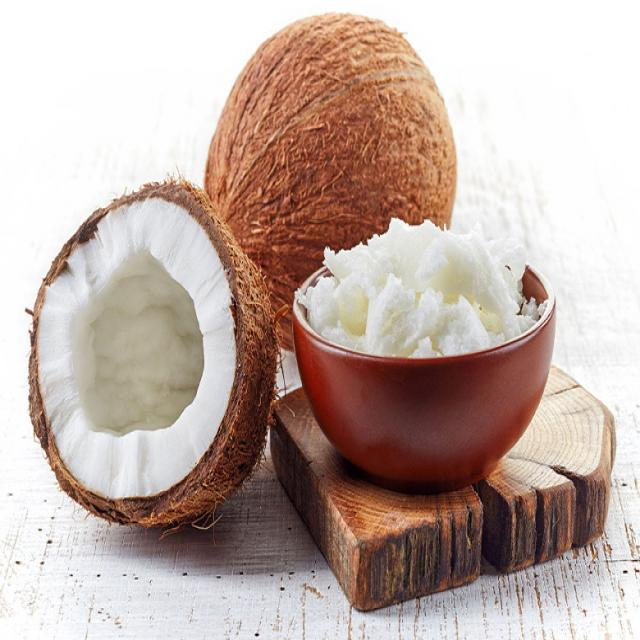coconut: (27, 174, 282, 542), (193, 5, 461, 337)
